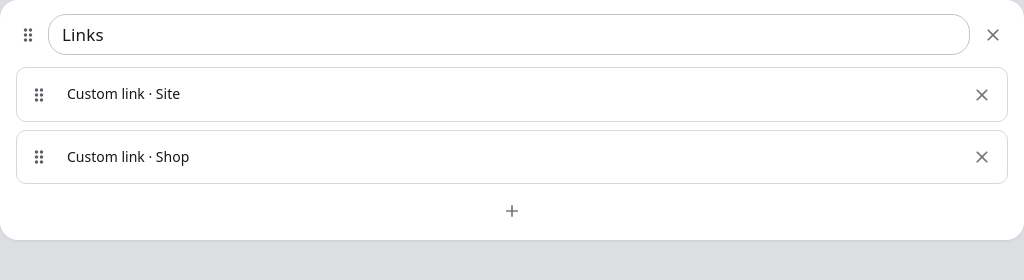
SectionEditor (extracted editor component) › shows the "Add" tooltip on the add button
The width and height of the screenshot is (1024, 280).
Hover over the button named "Add" at (512,211), box [497, 196, 527, 226]
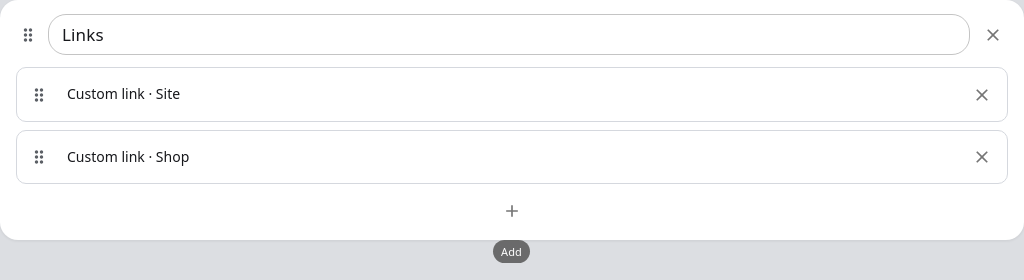
Expected: the tooltip reads "Add", [501, 244, 522, 259]
